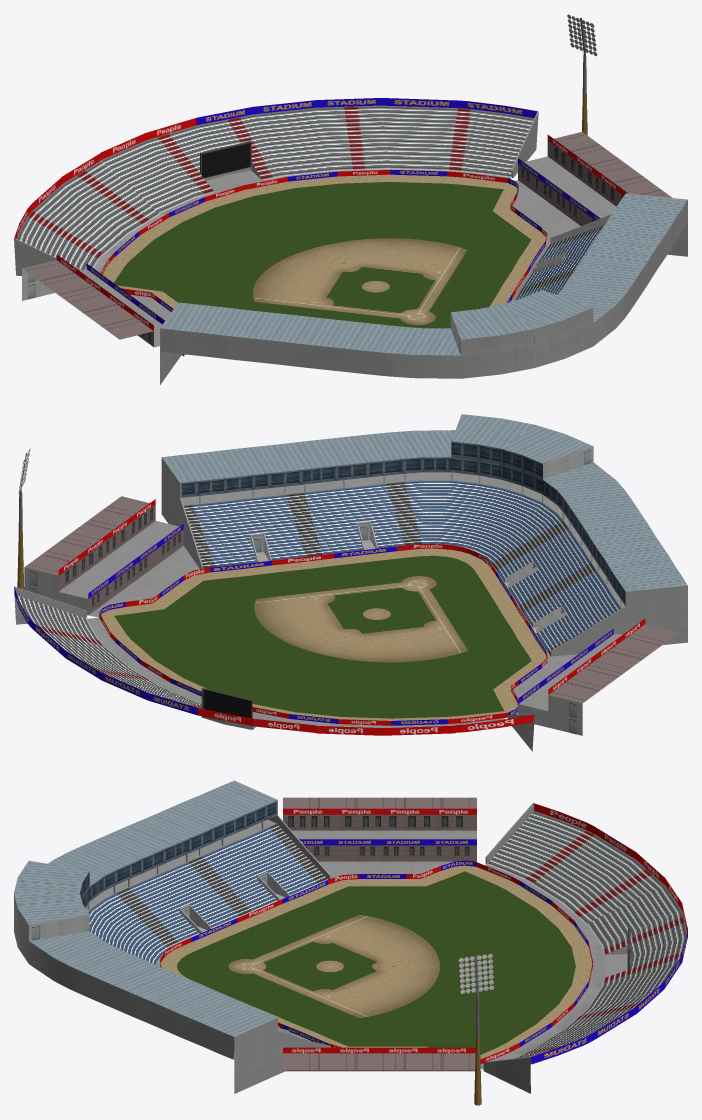
File: BB_Staidum_1.fbx
The picture shows the model from 3 angles, top to bottom: view 1: azimuth 30°, elevation 25°; view 2: azimuth 150°, elevation 25°; view 3: azimuth 270°, elevation 25°; orthographic projection.
Parts seen in each view (by area): view 1: BB_Ground, BB_staidum_part_3, BB_staidum_part_4, polySurface4, polySurface2, polySurface3, BB_staidum_part_1, polySurface6, polySurface5, polySurface7, polySurface1, BB_ground_Ads1 (+3 smaller); view 2: BB_staidum_part_3, BB_Ground, BB_staidum_part_4, BB_staidum_part_1, polySurface5, BB_ground_Ads1, polySurface4, BB_ground_Ads2, polySurface6, polySurface2, polySurface3, polySurface1 (+3 smaller); view 3: BB_Ground, BB_staidum_part_3, BB_staidum_part_1, polySurface2, polySurface1, BB_staidum_part_4, polySurface3, polySurface4, polySurface7, BB_ground_Ads2, polySurface5, polySurface6 (+2 smaller).
Boxes of the visible parts, x1,y1,x2,y2 form: BB_Ground: [102, 174, 545, 328]; BB_staidum_part_3: [160, 193, 687, 384]; BB_staidum_part_4: [512, 132, 672, 246]; polySurface4: [253, 98, 390, 181]; polySurface2: [32, 153, 163, 255]; polySurface3: [145, 107, 283, 199]; BB_staidum_part_1: [22, 254, 185, 356]; polySurface6: [381, 98, 470, 175]; polySurface5: [461, 101, 538, 178]; polySurface7: [100, 133, 198, 215]; polySurface1: [14, 204, 111, 275]; BB_ground_Ads1: [244, 169, 547, 302]; BB_staidum_part_3: [161, 414, 687, 656]; BB_Ground: [101, 548, 546, 720]; BB_staidum_part_4: [24, 496, 199, 617]; BB_staidum_part_1: [513, 618, 679, 735]; polySurface5: [14, 586, 109, 639]; BB_ground_Ads1: [99, 543, 461, 696]; polySurface4: [65, 650, 201, 702]; BB_ground_Ads2: [252, 547, 547, 725]; polySurface6: [27, 616, 140, 667]; polySurface2: [316, 724, 455, 735]; polySurface3: [147, 692, 288, 729]; polySurface1: [444, 714, 534, 751]; BB_Ground: [160, 865, 592, 1059]; BB_staidum_part_3: [14, 780, 330, 1093]; BB_staidum_part_1: [283, 797, 476, 878]; polySurface2: [527, 827, 664, 925]; polySurface1: [485, 803, 595, 885]; BB_staidum_part_4: [283, 1047, 475, 1071]; polySurface3: [588, 903, 687, 987]; polySurface4: [552, 956, 681, 1030]; polySurface7: [577, 877, 681, 945]; BB_ground_Ads2: [160, 860, 592, 963]; polySurface5: [480, 1037, 584, 1093]; polySurface6: [509, 1007, 636, 1054].
Size of the model in its own units: 8057 by 2008 by 8324.
